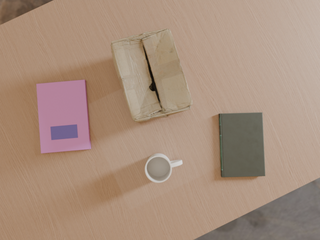book: (37, 80, 91, 153), (219, 113, 265, 177)
box: (111, 29, 193, 122)
cup: (145, 154, 182, 183)
